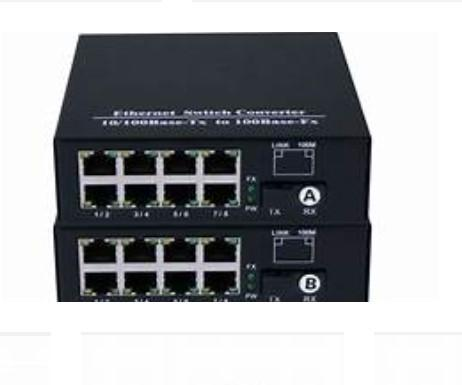NetworkSwitch: (52, 32, 373, 306)
